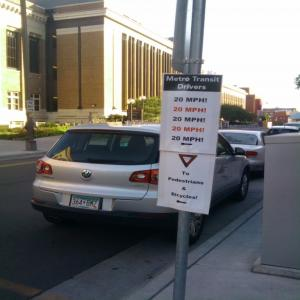Vehicle-registration-plate: (63, 197, 112, 213)
